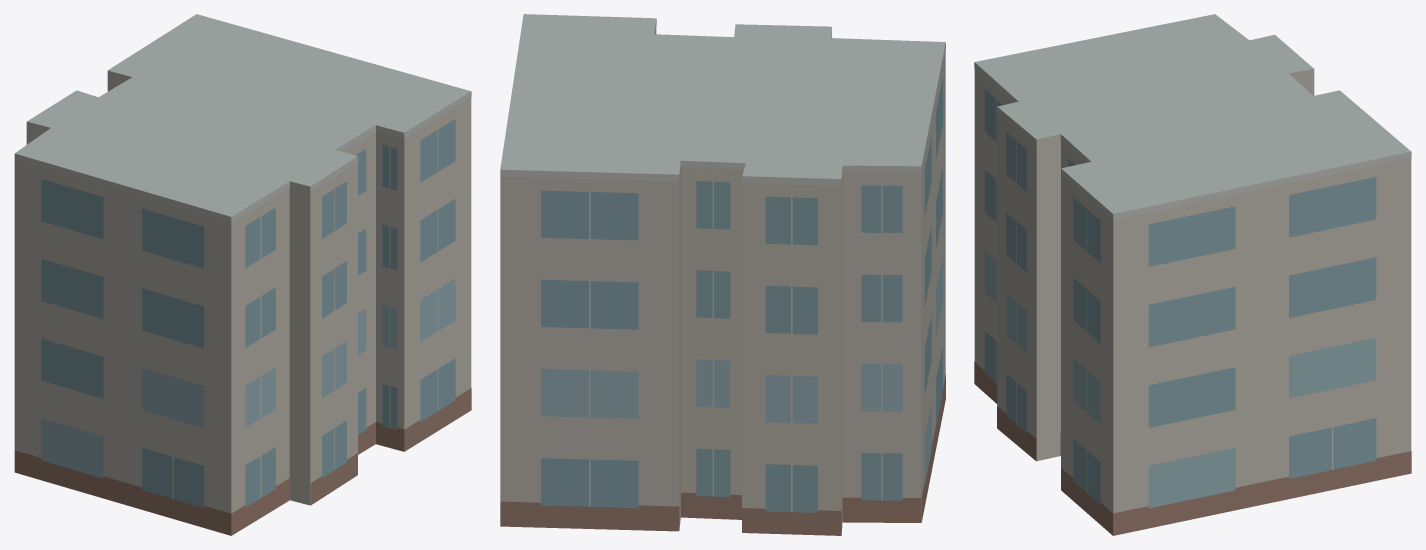
Rendered from survey-upis-32741369.glb.
The picture shows the model from 3 angles, left to right: view 1: azimuth 30°, elevation 25°; view 2: azimuth 150°, elevation 25°; view 3: azimuth 270°, elevation 25°; orthographic projection. The views are drawn at different scales.
Visible parts, largest first — view 1: survey-upis-32741369.tmp; view 2: survey-upis-32741369.tmp; view 3: survey-upis-32741369.tmp.
Part boxes in pixels (x1,y1,x2,y2): survey-upis-32741369.tmp: (14,14,471,535); survey-upis-32741369.tmp: (500,14,945,535); survey-upis-32741369.tmp: (974,14,1411,535).
Size of the model in its own units: 17.07 by 12.8 by 15.76.
